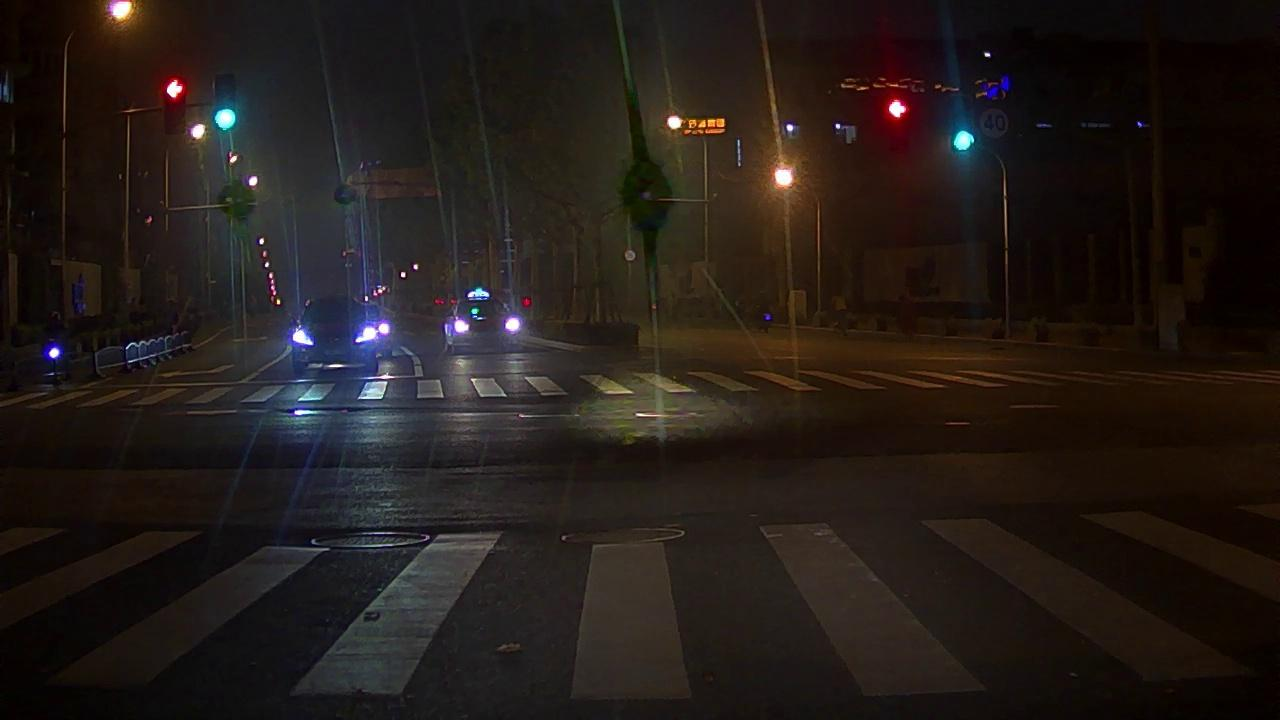traffic_light: (164, 76, 186, 131), (888, 97, 908, 155), (952, 98, 973, 153), (216, 78, 236, 132)
